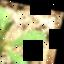Carpet weed: (0, 5, 55, 64)
